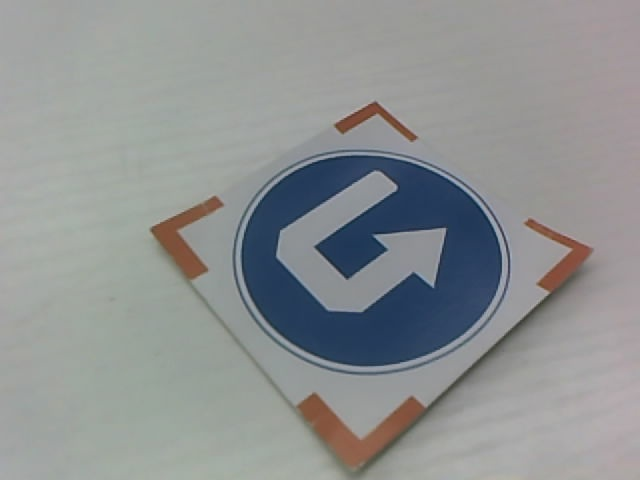turn_around: (145, 100, 598, 474)
